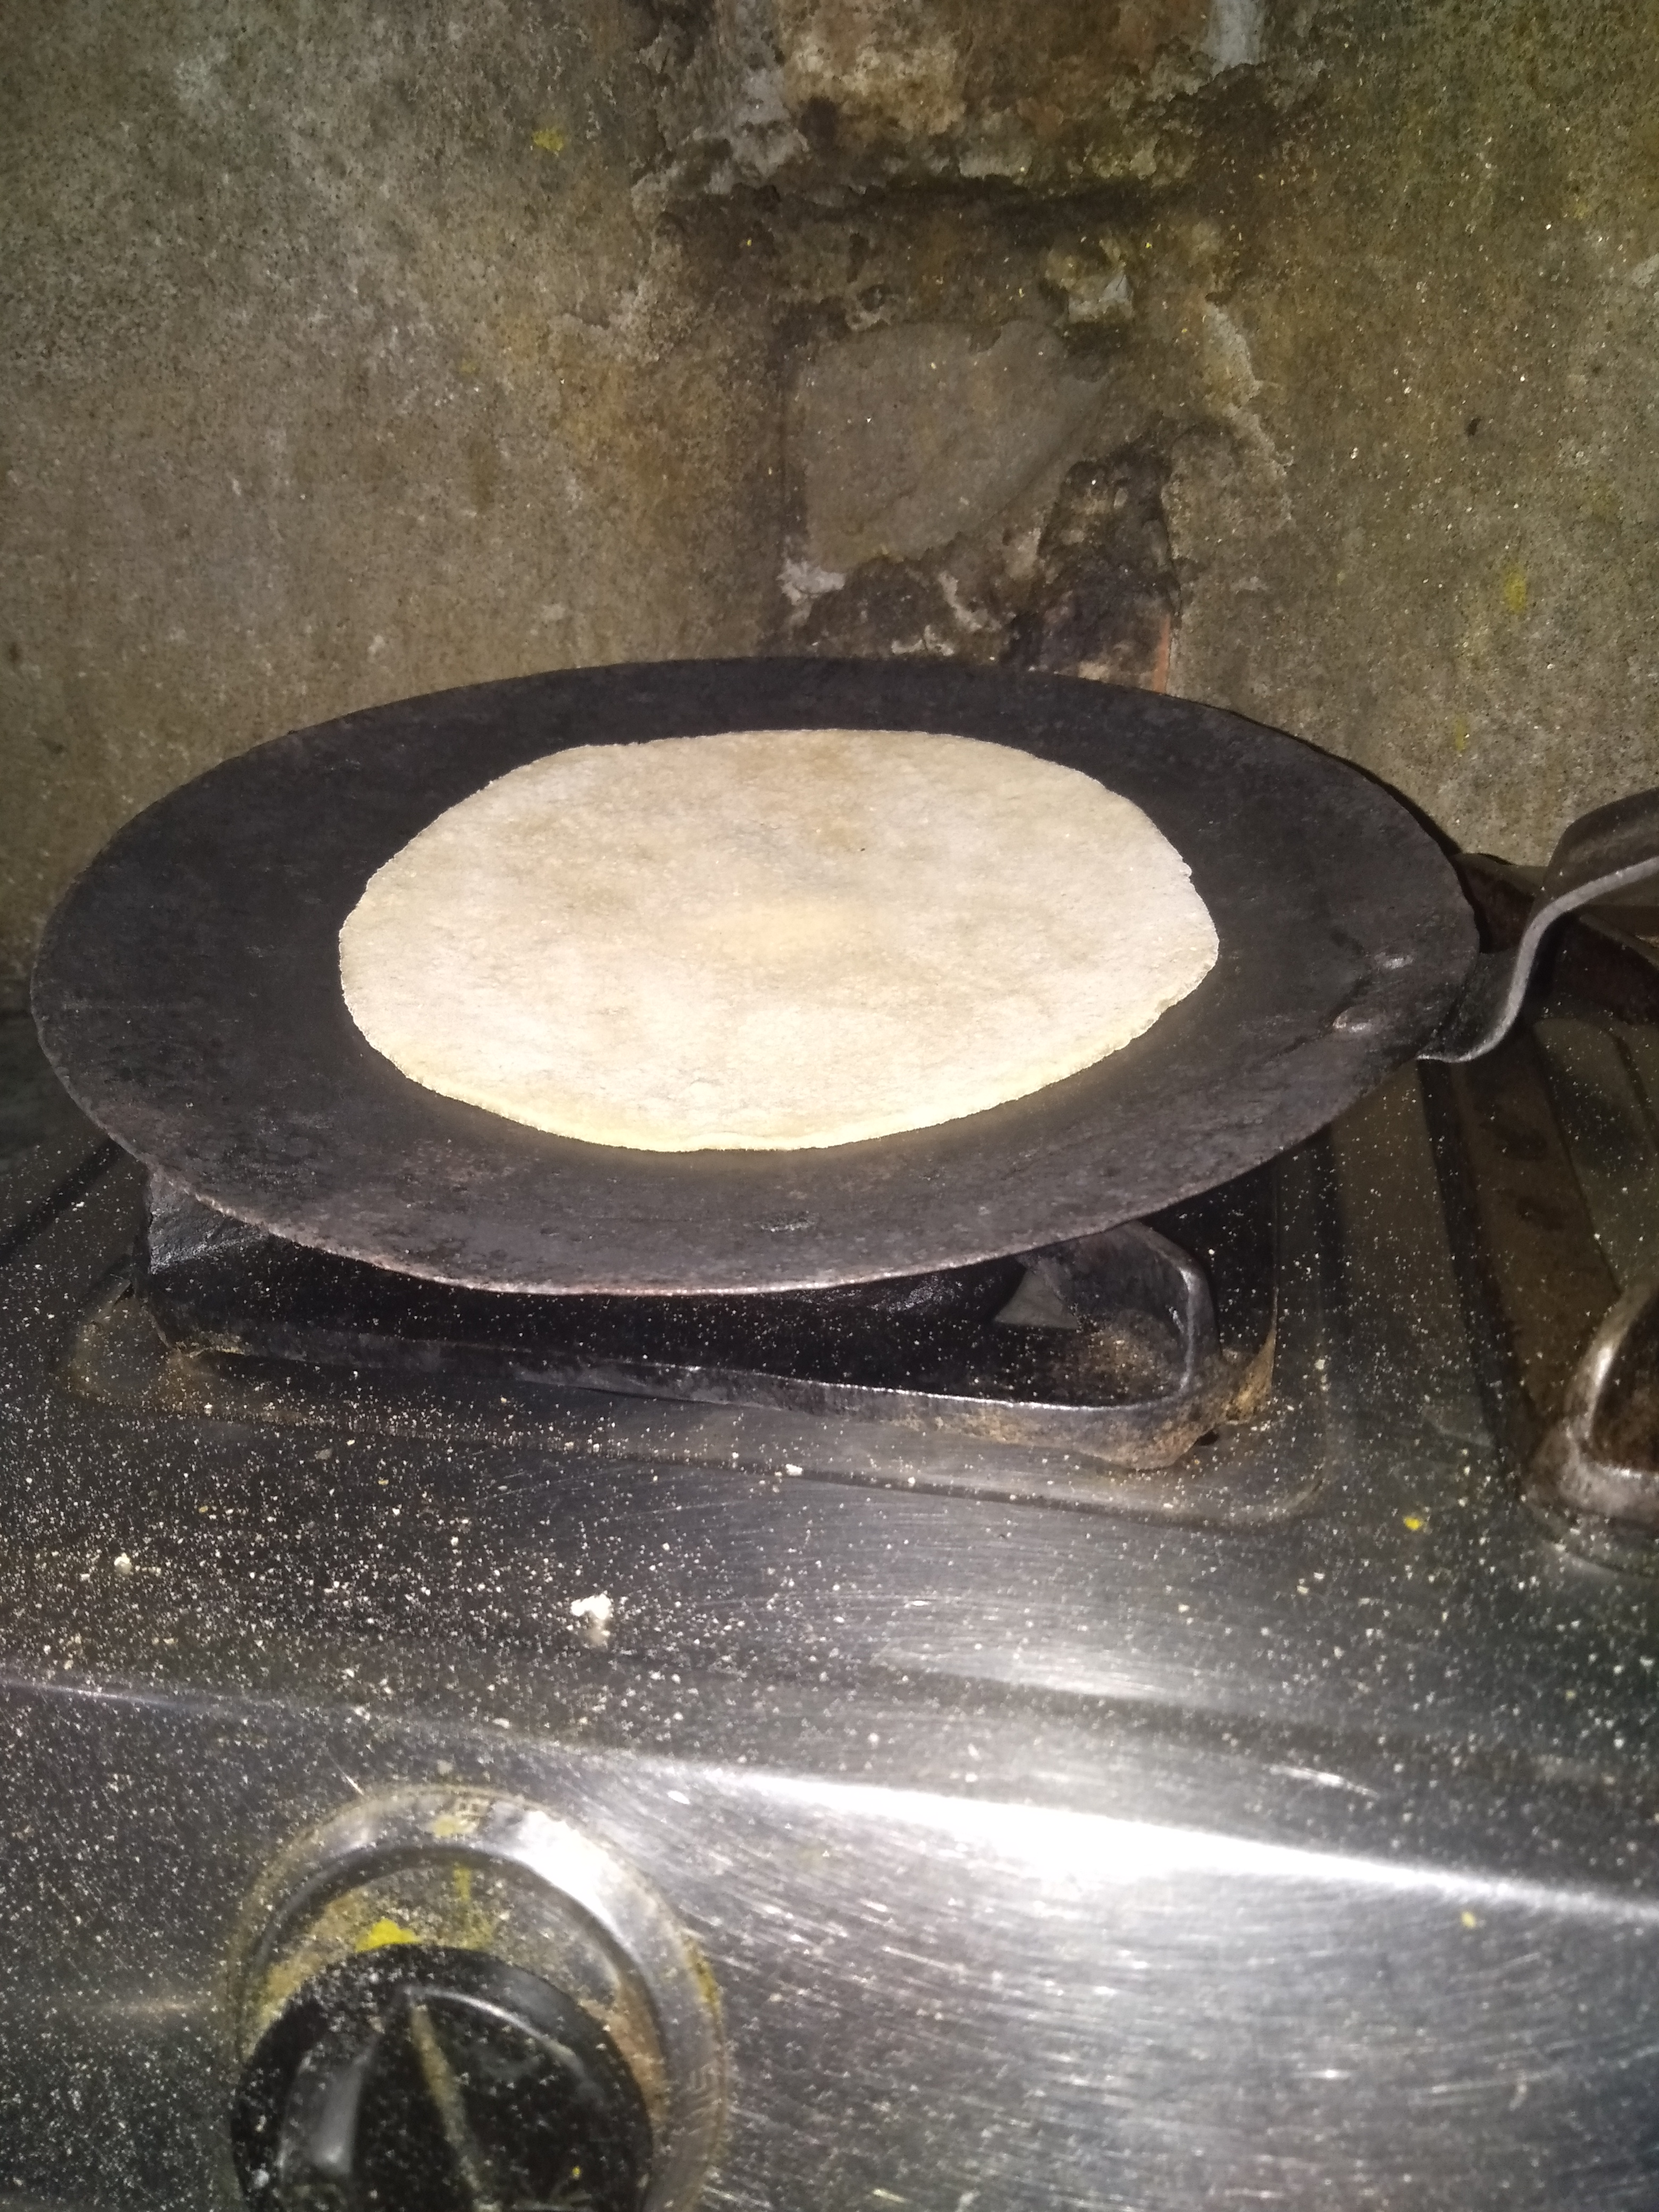food: (317, 716, 1234, 1170)
